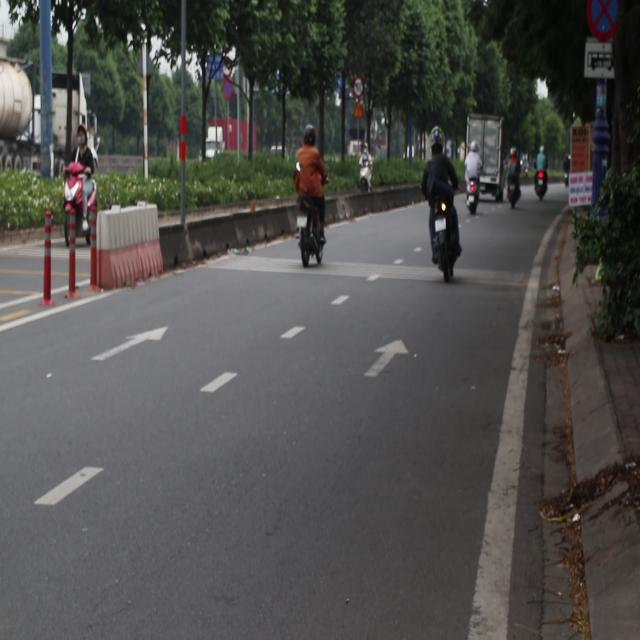motorbike: (60, 165, 105, 250), (423, 203, 468, 281), (294, 198, 329, 276), (460, 147, 484, 214), (356, 154, 380, 202), (508, 175, 524, 209), (538, 160, 548, 196)
truck: (0, 85, 110, 173), (458, 92, 506, 196), (202, 109, 270, 172)
